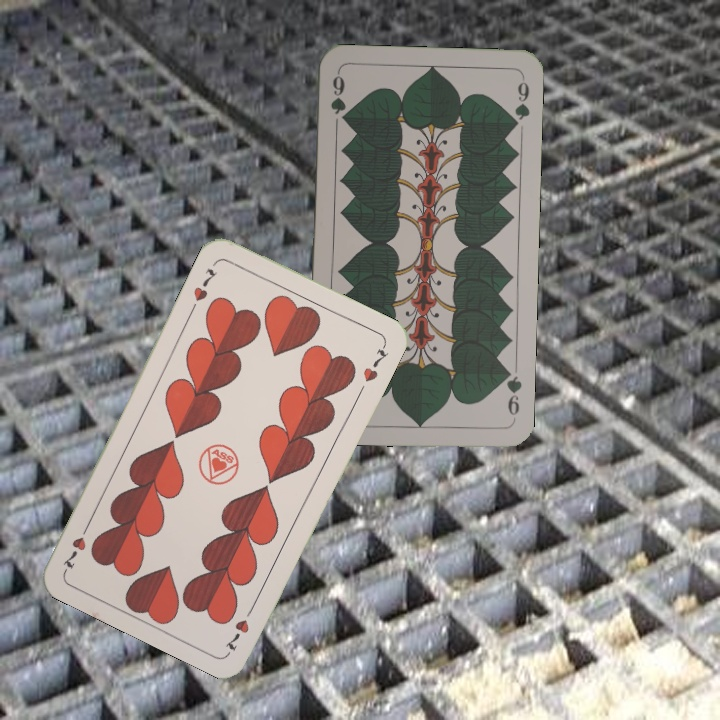G9: (500, 364, 525, 423), (326, 69, 348, 117)
H7: (221, 600, 258, 655), (189, 264, 219, 304)
